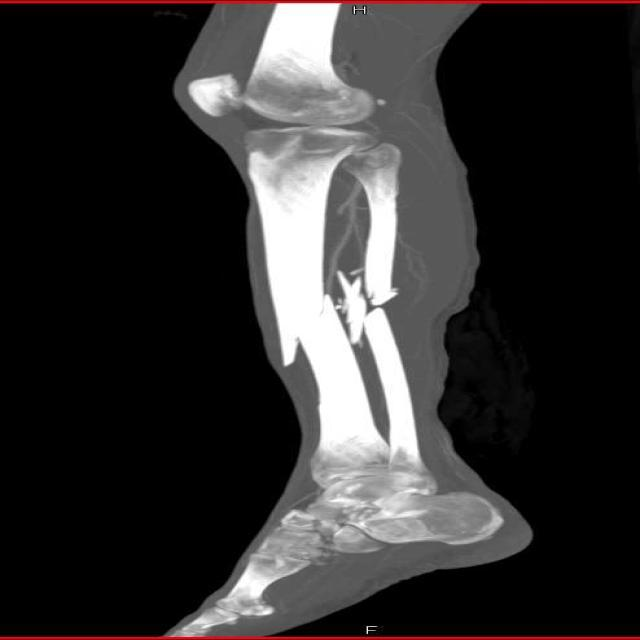fractured: (228, 258, 437, 373)
